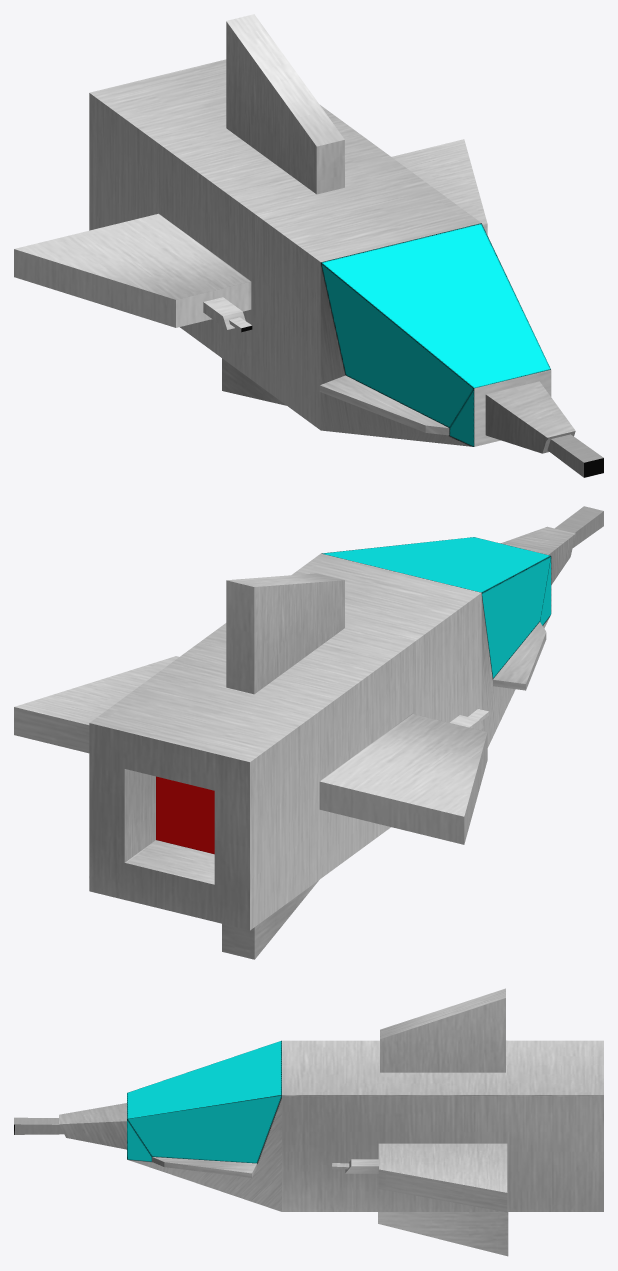
Rendered from S Ship4.fbx.
The picture shows the model from 3 angles, top to bottom: view 1: azimuth 30°, elevation 25°; view 2: azimuth 150°, elevation 25°; view 3: azimuth 270°, elevation 25°; orthographic projection. The views are drawn at different scales.
Parts seen in each view (by area): view 1: Куб; view 2: Куб; view 3: Куб.
Part boxes in pixels (x1,y1,x2,y2): Куб: (14,14,603,477); Куб: (14,506,603,959); Куб: (14,988,603,1256).
Size of the model in its own units: 560 by 441 by 914.
